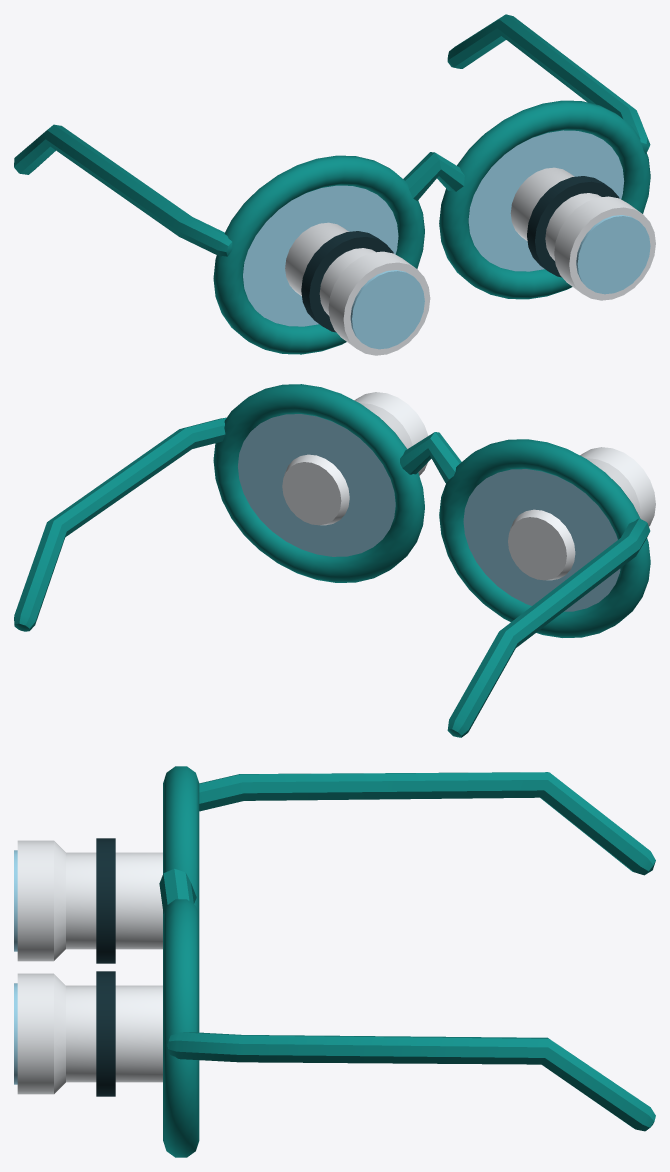
File: extra_loupes.glb
3 renders of one model, top to bottom at view 1: azimuth 30°, elevation 25°; view 2: azimuth 150°, elevation 25°; view 3: azimuth 270°, elevation 25°, orthographic. The views are drawn at different scales.
Visible parts, largest first — view 1: extra_loupes; view 2: extra_loupes; view 3: extra_loupes.
Boxes of the visible parts, left/top/right/bottom form: extra_loupes: left=14, top=14, right=655, bottom=355; extra_loupes: left=14, top=384, right=655, bottom=737; extra_loupes: left=14, top=766, right=655, bottom=1157.
Size of the model in its own units: 5.44 by 2.09 by 5.3.
